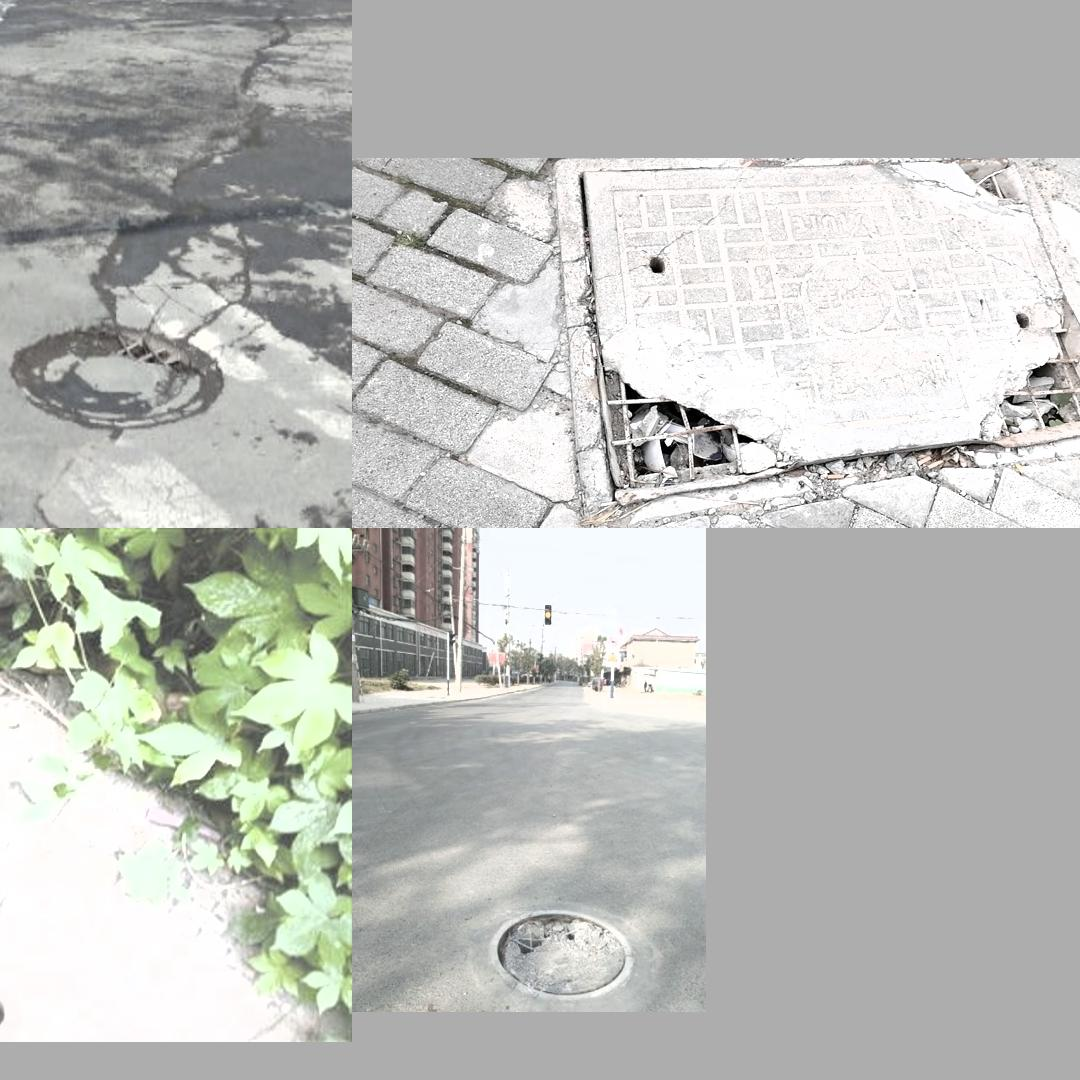broke: (585, 160, 1080, 499), (0, 620, 346, 1042), (10, 319, 224, 431), (490, 908, 633, 1000)
